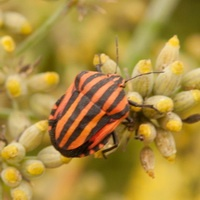insect: (49, 71, 128, 156)
